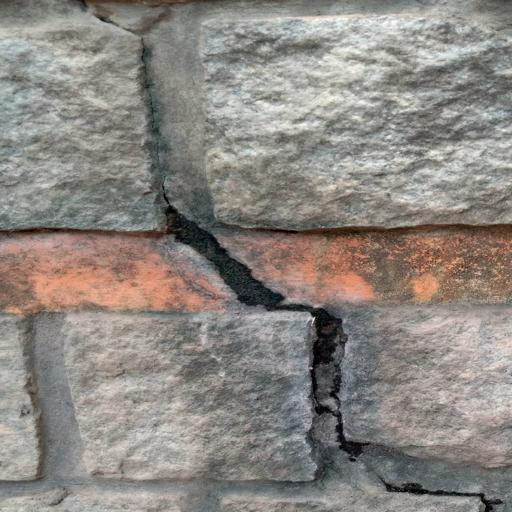major_crack: (80, 0, 504, 512)
